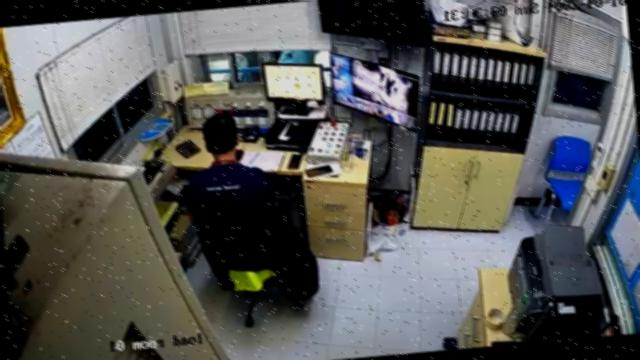Head: (201, 113, 238, 159)
People: (185, 113, 276, 217)
Phone: (304, 163, 333, 176), (286, 155, 303, 169)
